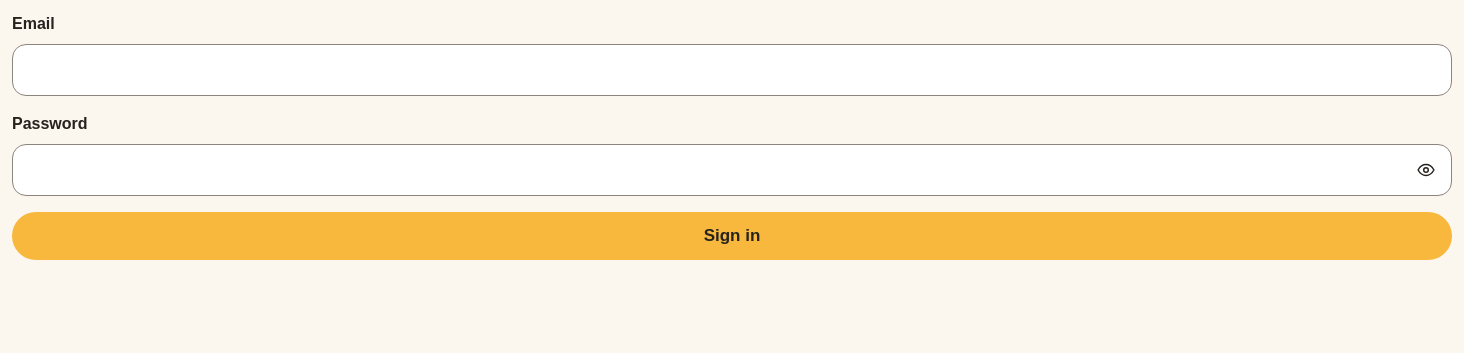
Scenario: LoginForm › a suspended refusal shows its notice, keeps the email and clears the password
Type "mira@example.com" into the field labelled "Email" at (732, 70), box [12,44,1452,96]
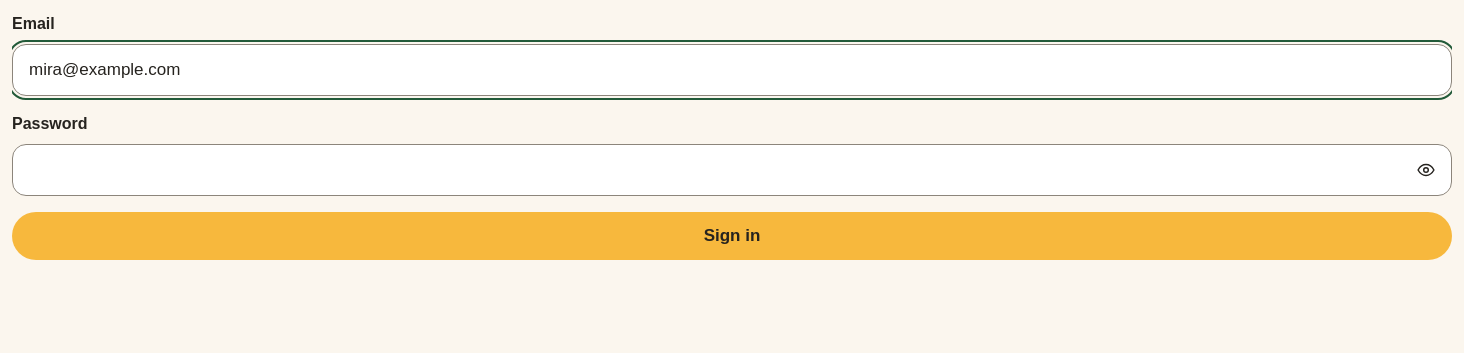
Type "not-the-password" into the password field labelled "Password" at (732, 170), box [12,144,1452,196]
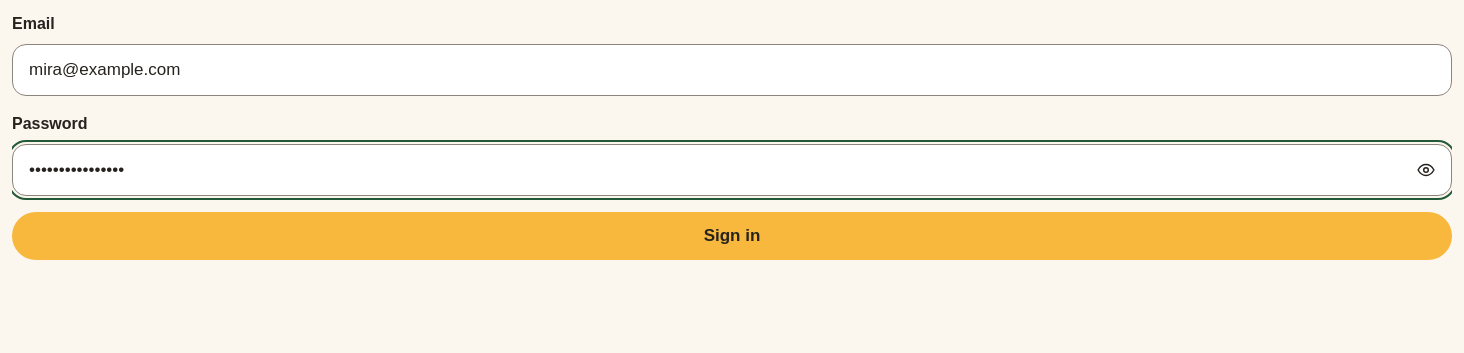
Click the button "Sign in" at (732, 236), box [12,212,1452,260]
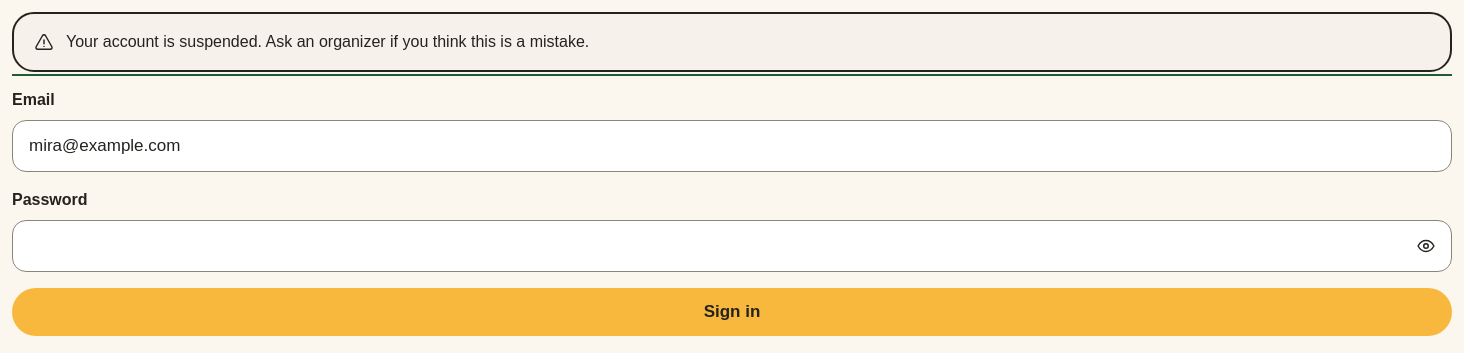
Check: the text "Your account is suspended. Ask an organizer if you think this is a mistake." is shown, box [66,33,589,50]
Check: the password field labelled "Password" is empty, box [12,220,1452,272]
